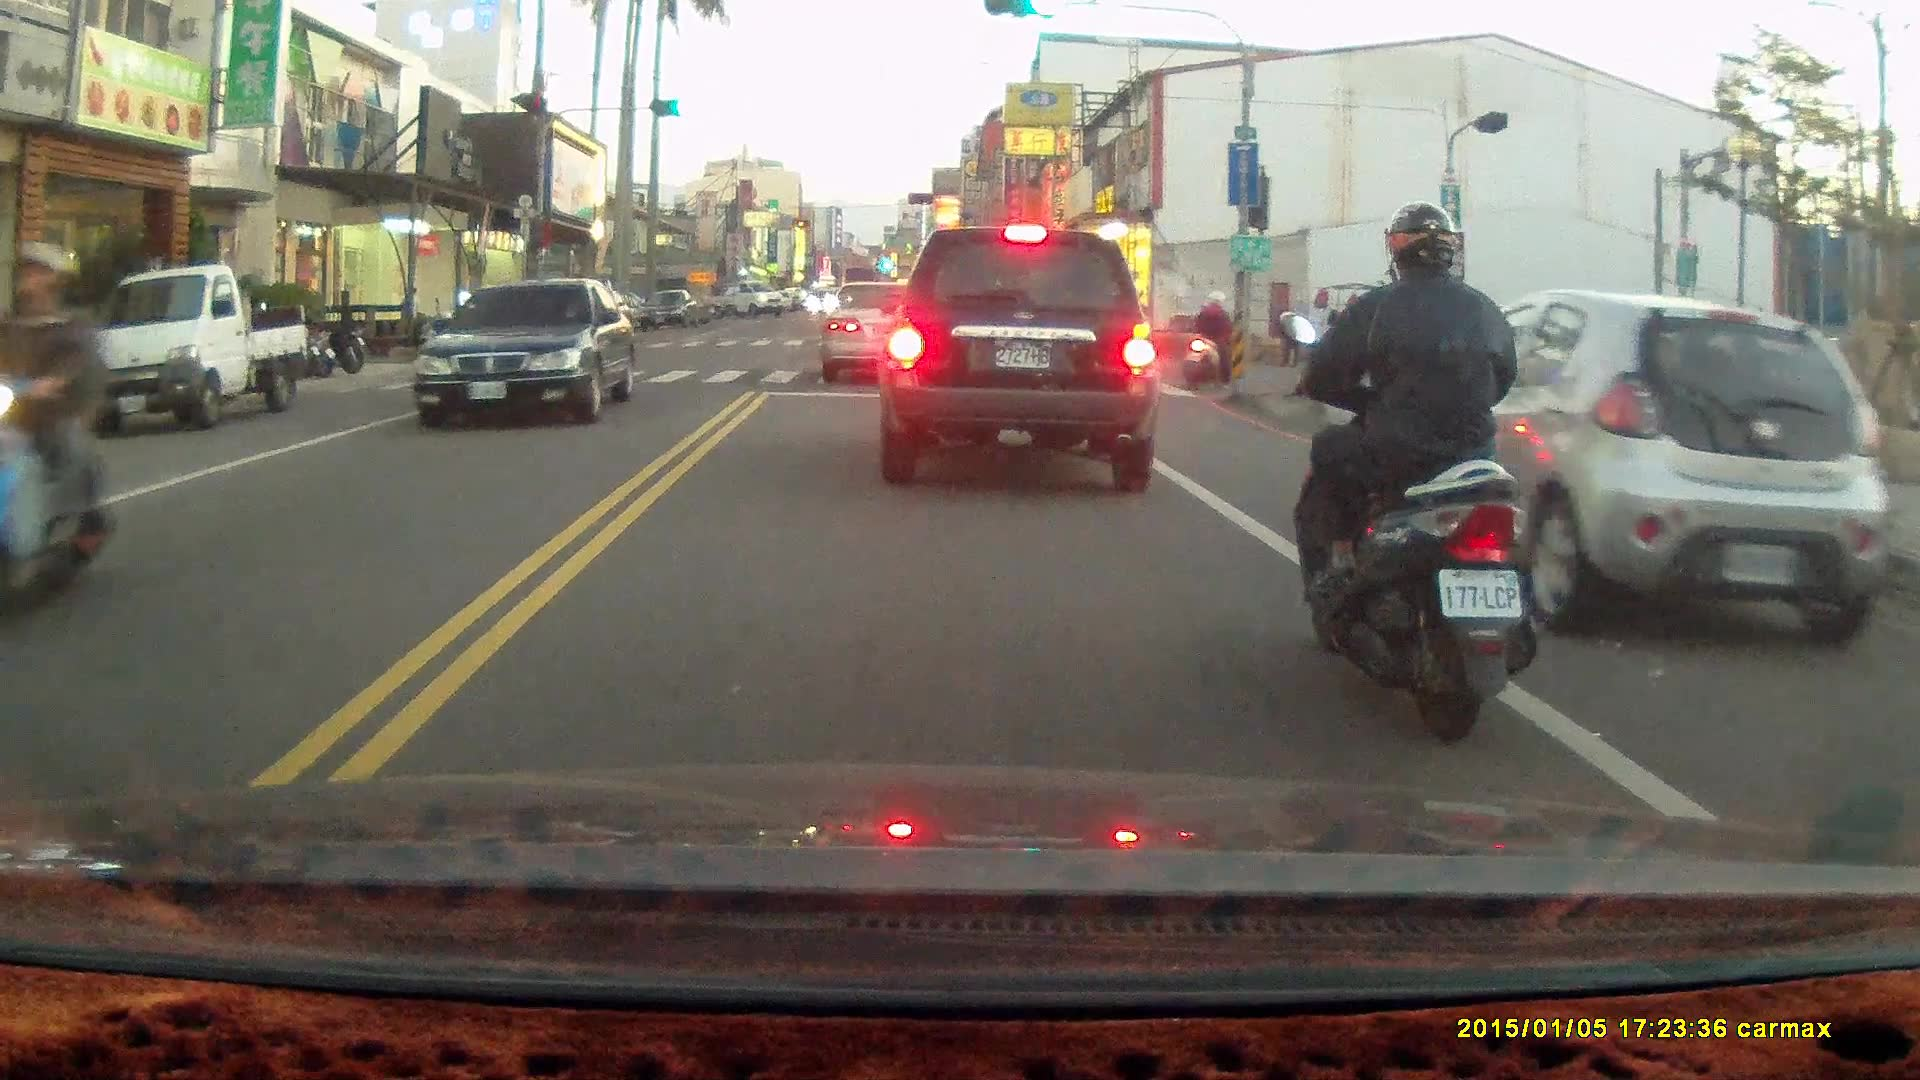pedestrian: (1270, 305, 1299, 369)
rider: (1274, 200, 1542, 746), (0, 238, 113, 624), (1179, 287, 1238, 392)
vehicle: (1413, 293, 1890, 647), (873, 224, 1160, 496), (77, 268, 312, 433), (416, 277, 638, 426), (820, 281, 937, 386)
